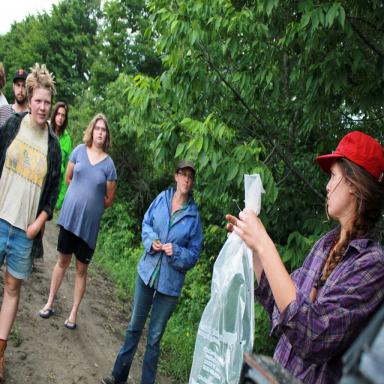plasticbag: (186, 172, 266, 383)
